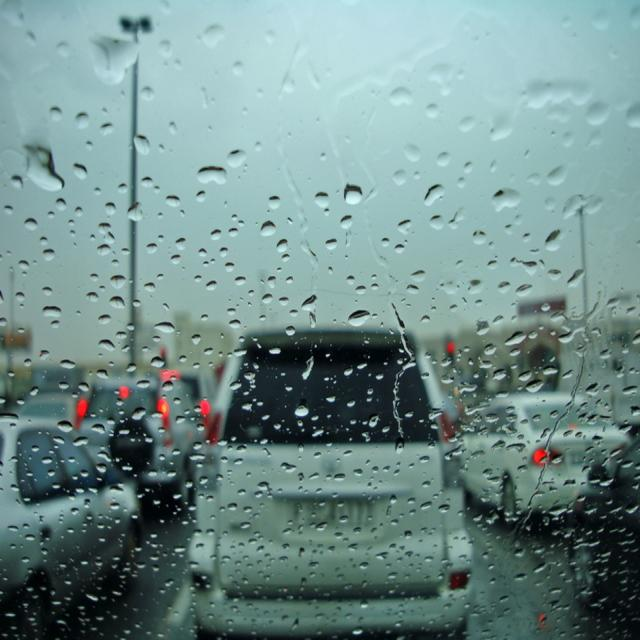car: (188, 334, 466, 635), (8, 411, 149, 629), (458, 394, 618, 514), (560, 402, 636, 625), (81, 376, 199, 498), (177, 357, 217, 433)
